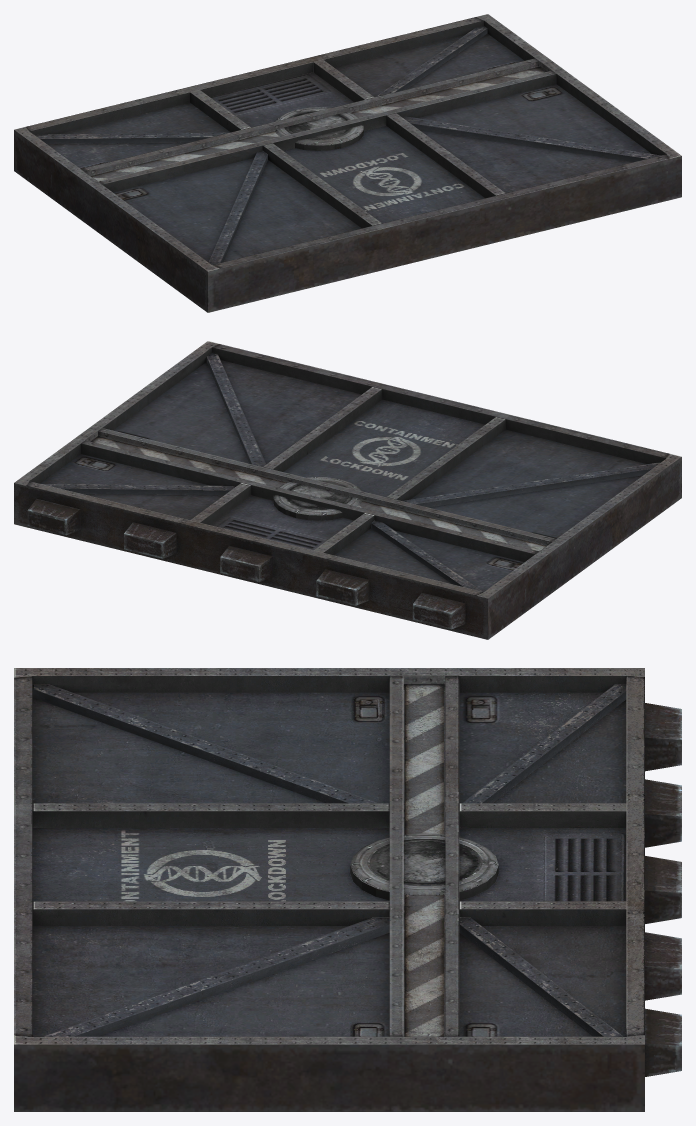
Rendered from dver_black_mesa2.obj.
The picture shows the model from 3 angles, top to bottom: view 1: azimuth 30°, elevation 25°; view 2: azimuth 150°, elevation 25°; view 3: azimuth 270°, elevation 25°; orthographic projection. The views are drawn at different scales.
Parts seen in each view (by area): view 1: mesh0_qe_blastdoor; view 2: mesh0_qe_blastdoor; view 3: mesh0_qe_blastdoor.
Part boxes in pixels (bbox=[...]): mesh0_qe_blastdoor: bbox=[14, 14, 681, 312]; mesh0_qe_blastdoor: bbox=[14, 341, 681, 639]; mesh0_qe_blastdoor: bbox=[14, 668, 681, 1111].
Bounding box in the file's own units: 1.92 × 0.16 × 1.44.
